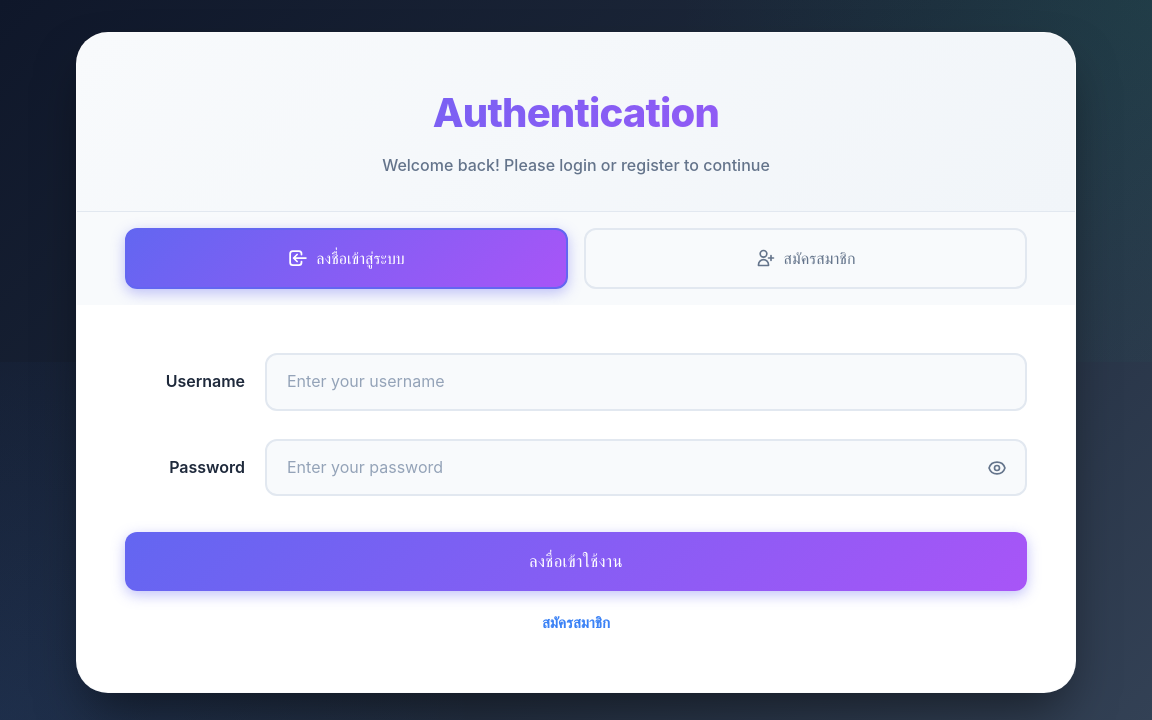
Test case: AuthView › switches back to login form when login tab is clicked
Click the button with class "tab" showing "สมัครสมาชิก" at (806,258), box [584,228,1027,289]
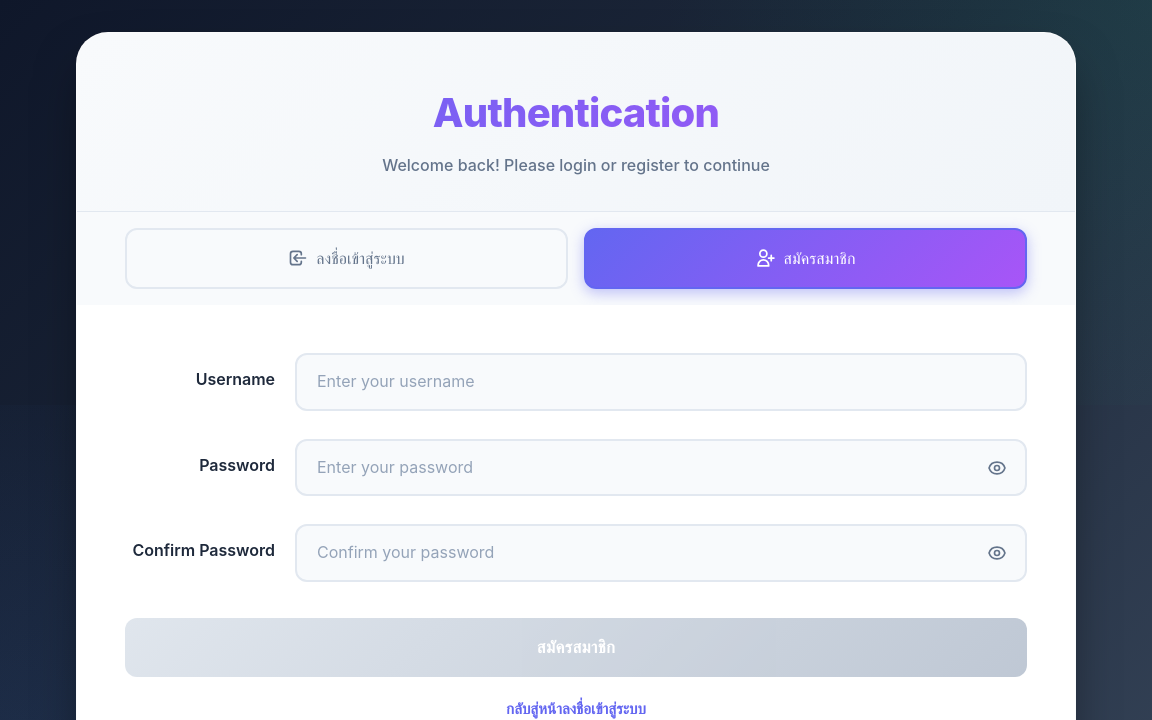
Click the button with class "tab" showing "ลงชื่อเข้าสู่ระบบ" at (346,258), box [125,228,568,289]
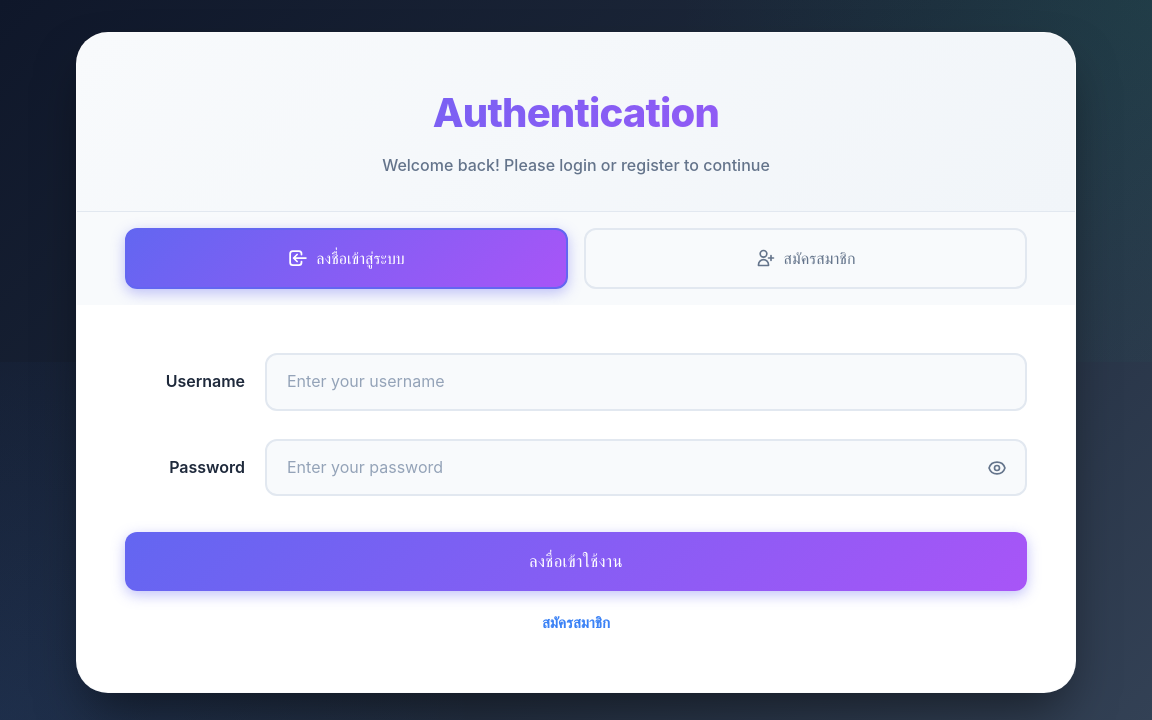
expect the element showing "Username Password ลงชื่อเข้าใช้งาน สมัครสมาชิก" is shown: met, box [125,353,1027,636]
